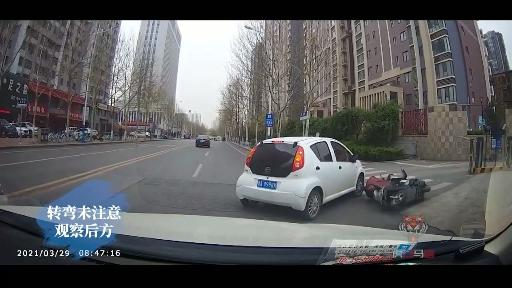Accident: (240, 130, 431, 214)
CAR: (189, 133, 212, 151)
